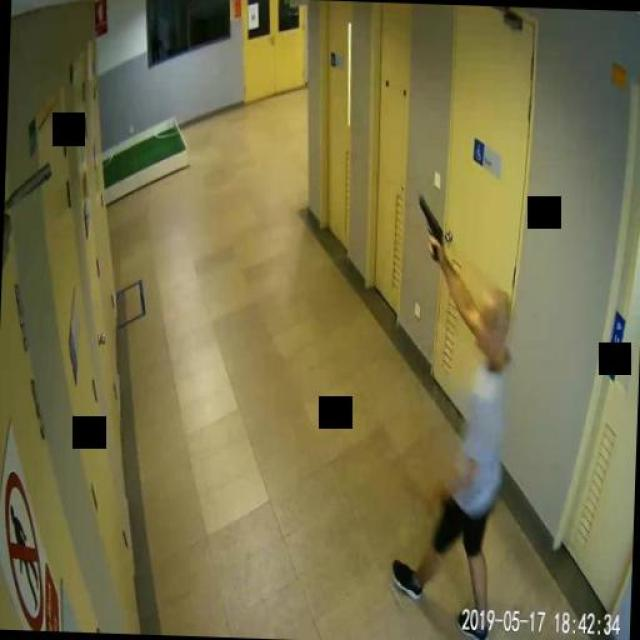gun: (415, 194, 443, 262)
